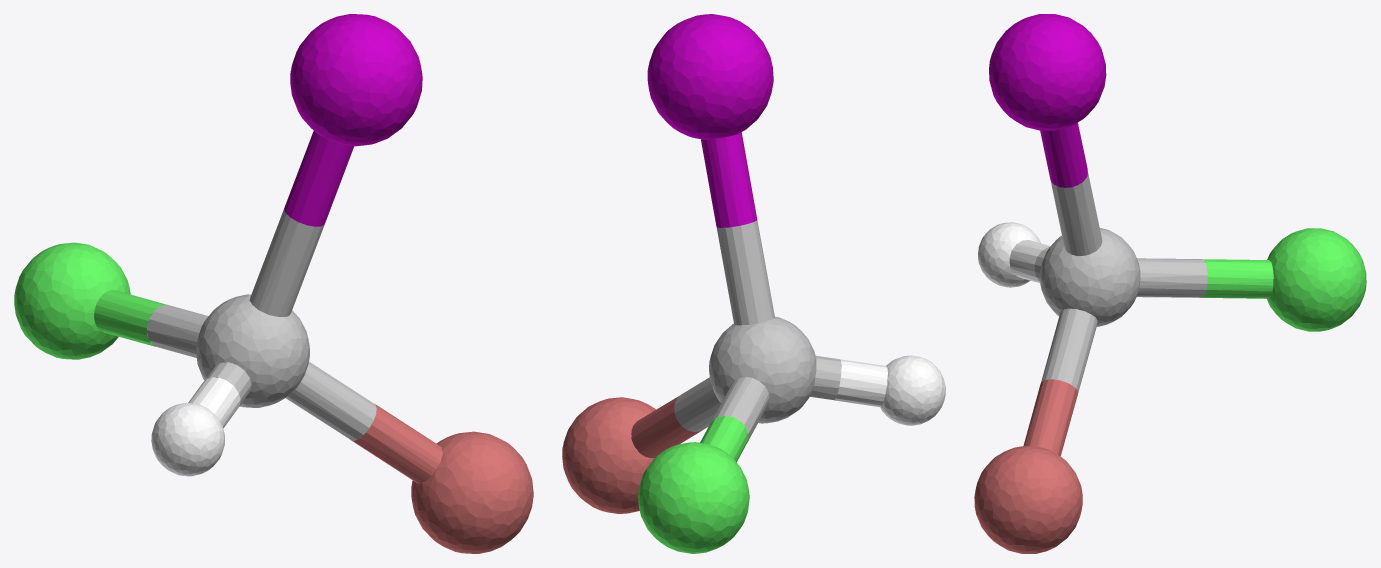
Rendered from cbim2.fbx.
3 views of the same model, side by side, from view 1: azimuth 30°, elevation 25°; view 2: azimuth 150°, elevation 25°; view 3: azimuth 270°, elevation 25° (orthographic). The views are drawn at different scales.
Visible parts, largest first — view 1: cbim2; view 2: cbim2; view 3: cbim2.
Boxes of the visible parts, <box> form: cbim2: <box>14,14,533,553</box>; cbim2: <box>562,14,945,553</box>; cbim2: <box>974,14,1366,553</box>.
Size of the model in its own units: 301 by 414 by 304.
